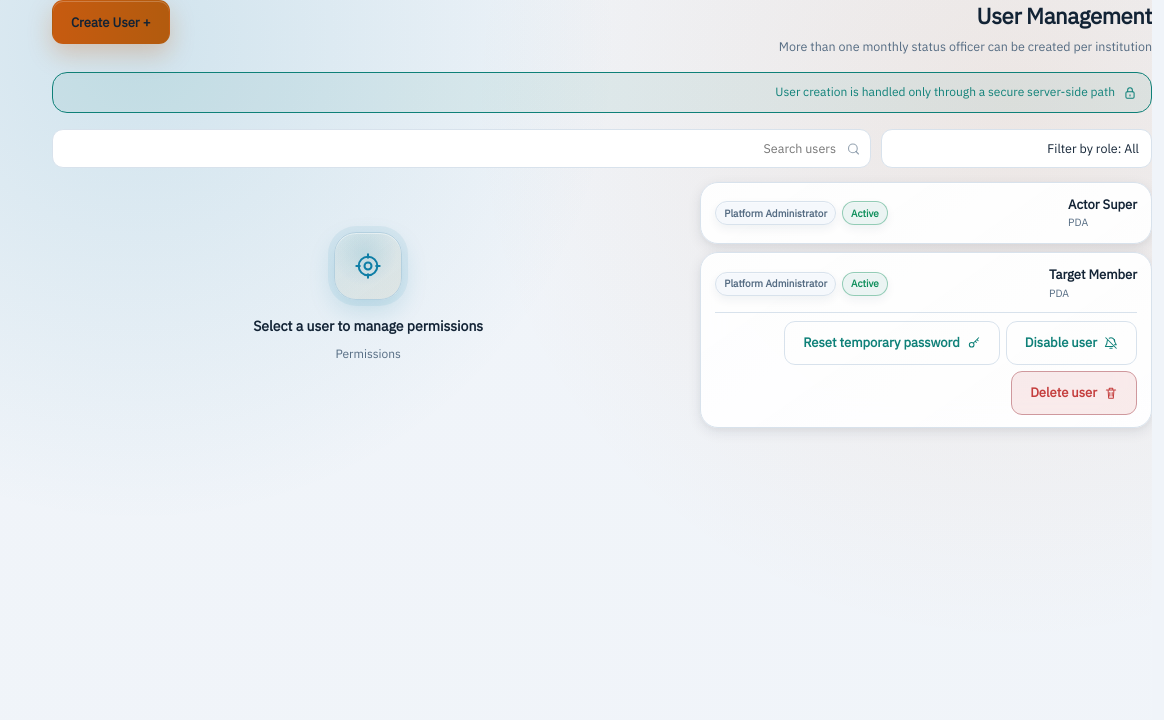
P1 — the matrix saves the explicit choice and it survives reload and reopen › only the changed key is sent; keys the person did not touch keep their stored values
Click the text "Target Member".
click(1093, 276)  # box [1049,266,1137,286]
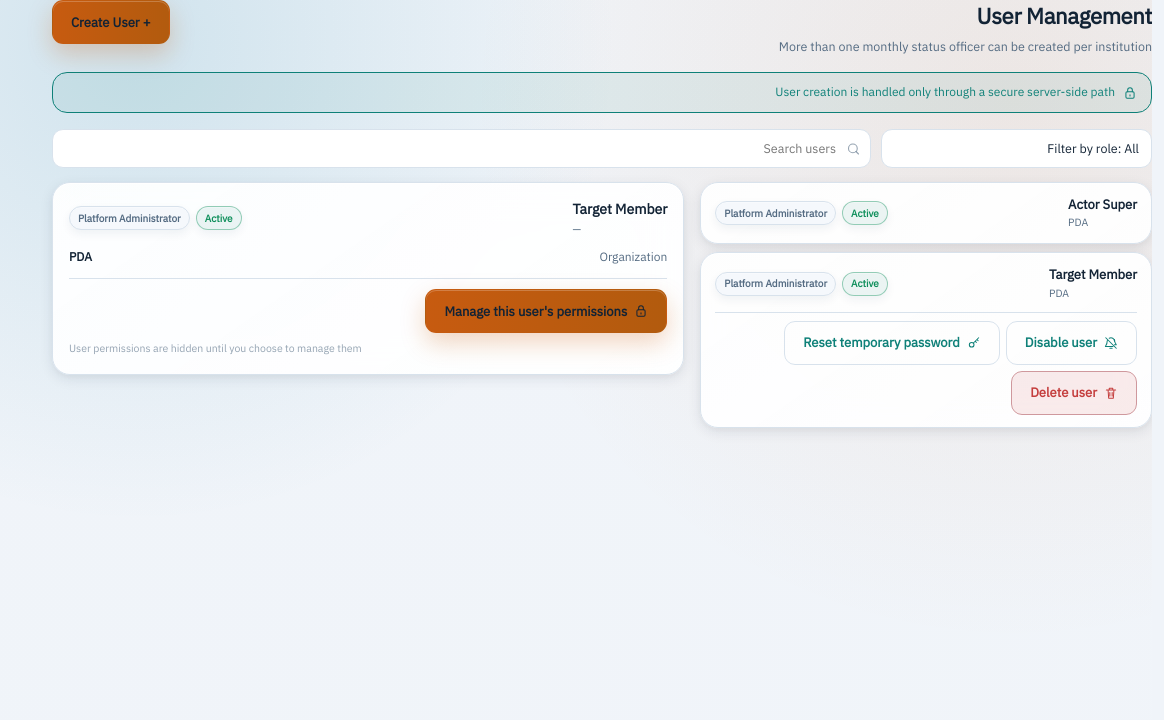
Click the button "Manage this user's permissions".
click(546, 311)  # box [426,289,667,333]
(page scrolled)
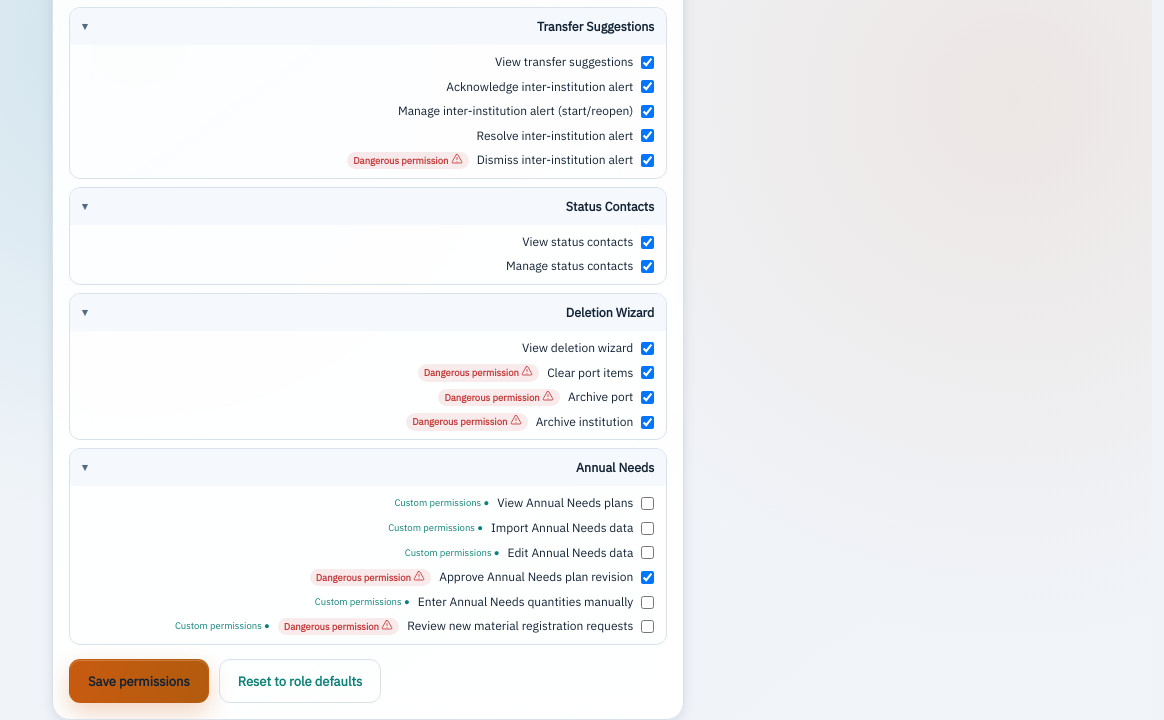
Expected: the text "View Annual Needs plans" is shown, [497,494,633,513]
Click the checkbox labelled "View Annual Needs plans ● Custom permissions".
click(648, 504)  # box [641,497,654,510]
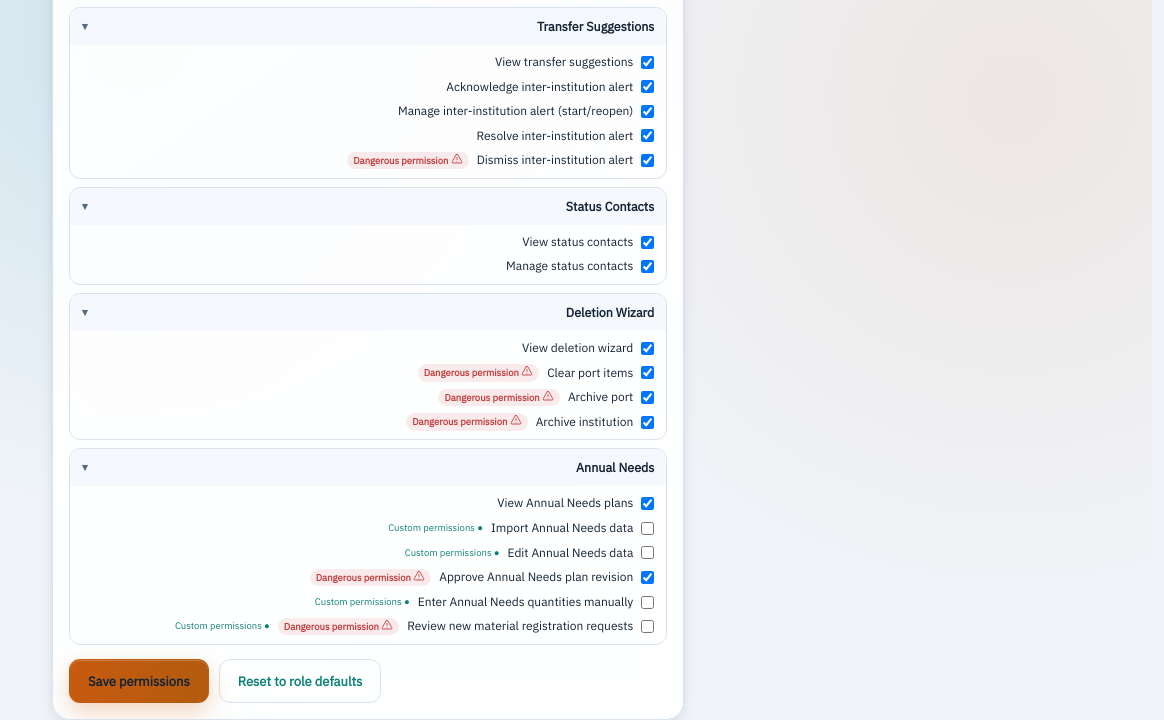
Click the button "Save permissions".
click(139, 681)  # box [69,659,209,703]
(page scrolled)
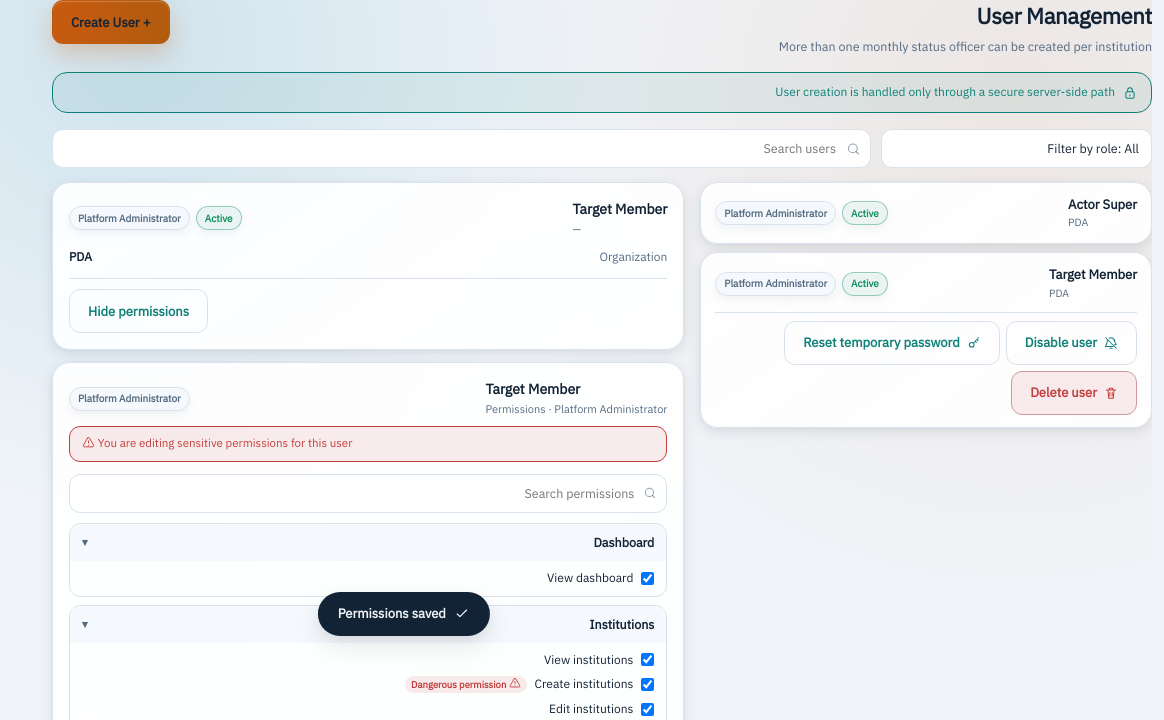
Expected: the text "Permissions saved" is shown, [338,604,446,624]
